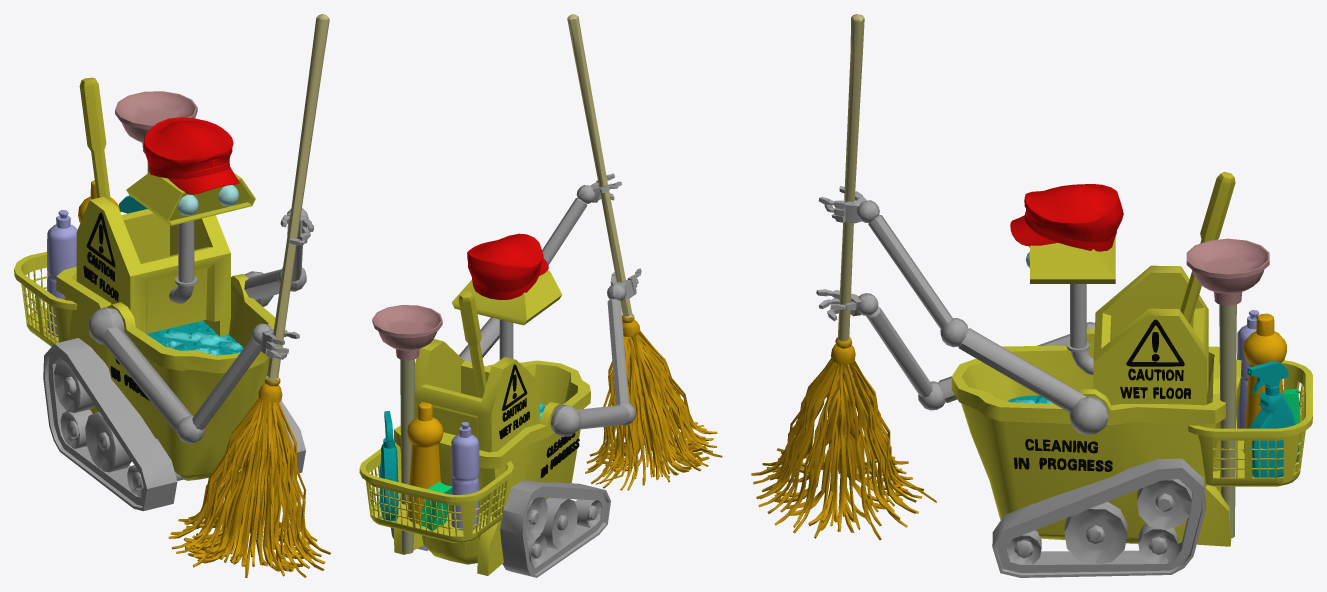
The model's file is cleaning_bot_scene.gltf.
3 renders of one model, left to right at view 1: azimuth 30°, elevation 25°; view 2: azimuth 150°, elevation 25°; view 3: azimuth 270°, elevation 25°, orthographic. The views are drawn at different scales.
Parts seen in each view (by area): view 1: Geode; view 2: Geode; view 3: Geode.
Boxes of the visible parts, x1=… form: Geode: x1=14, y1=14, x2=330, y2=577; Geode: x1=359, y1=14, x2=722, y2=577; Geode: x1=751, y1=14, x2=1312, y2=577.
Bounding box in the file's own units: 68.46 × 161 × 152.
